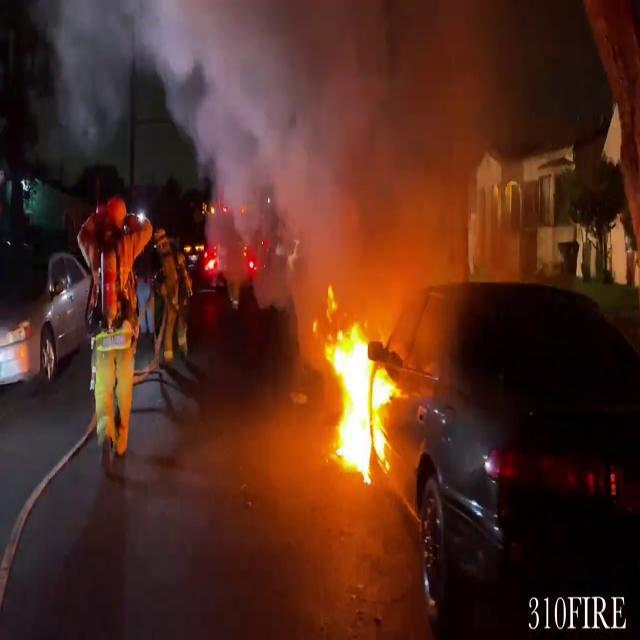Fire: (318, 315, 408, 481)
Smoke: (187, 0, 537, 295)
